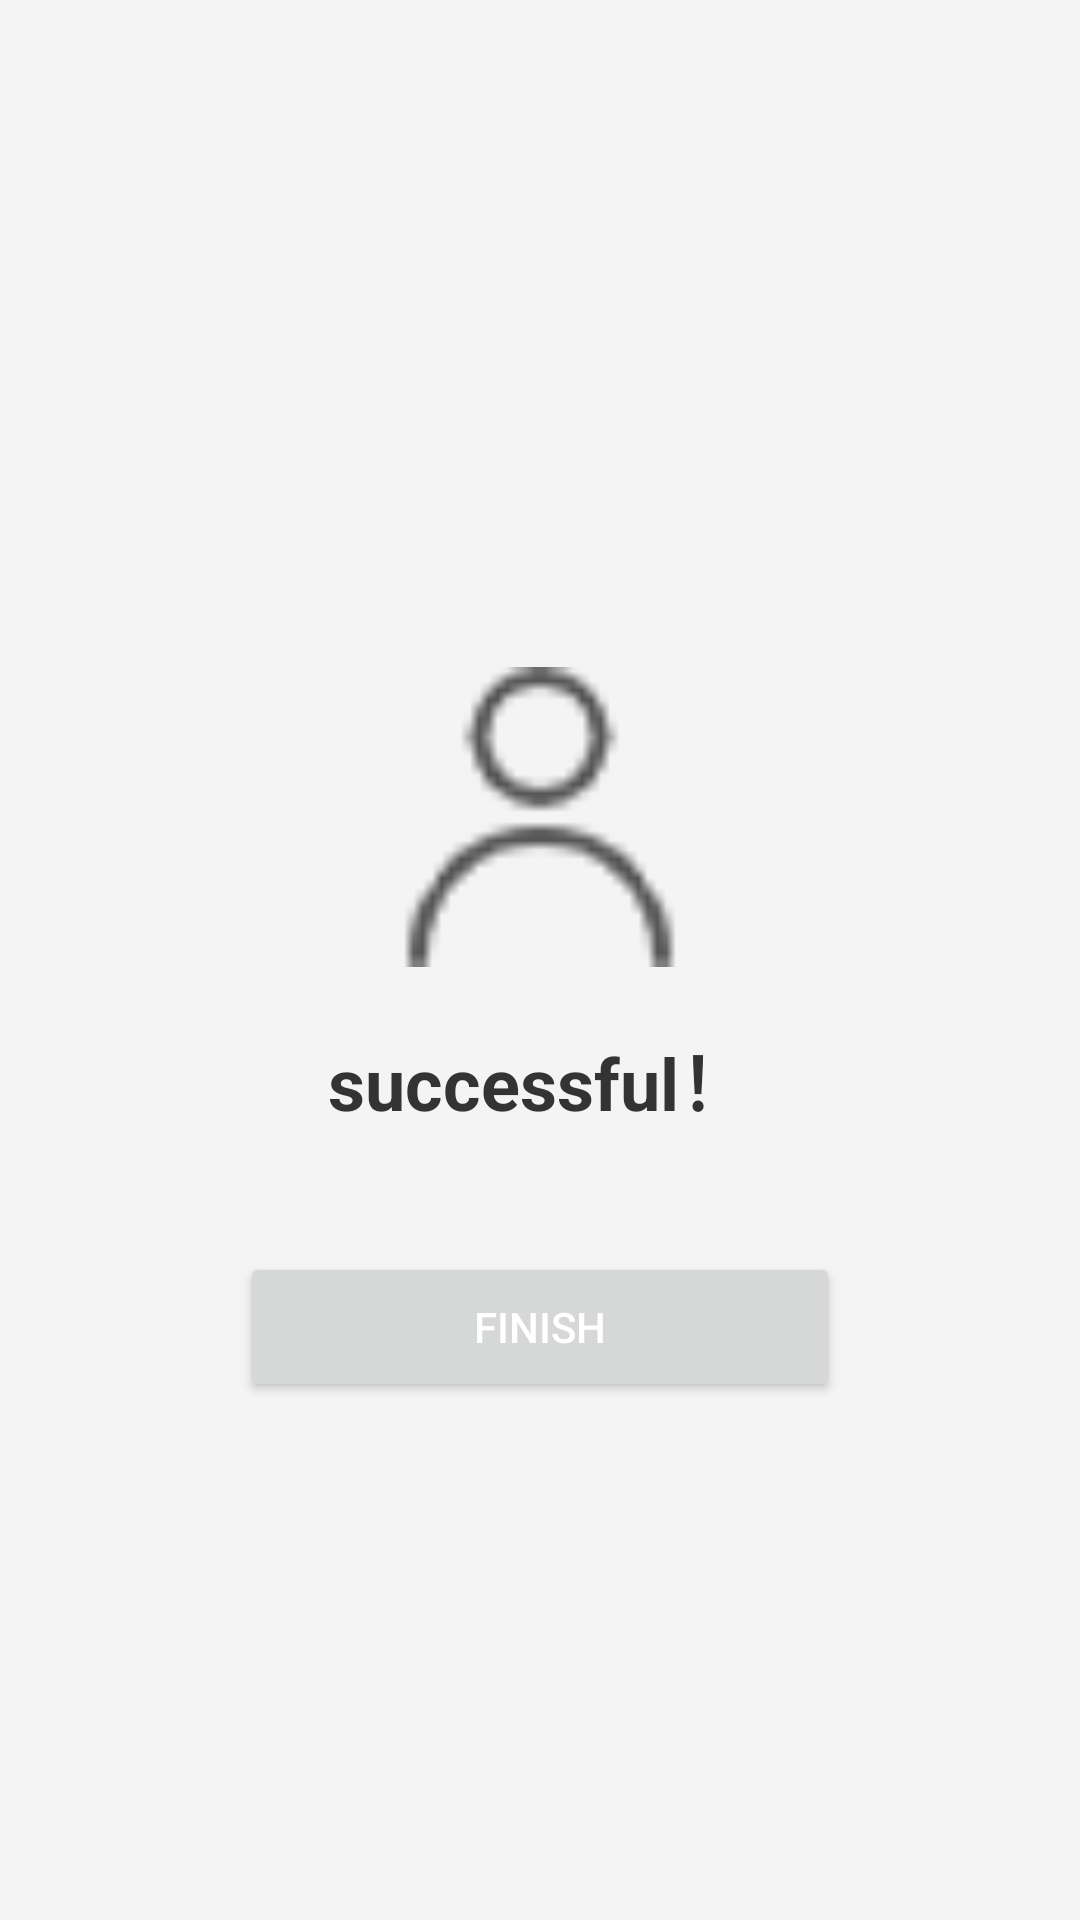

Named icons in this screenshot (1080×1920) and their centers, point (x, y):
person: point (540, 817)
